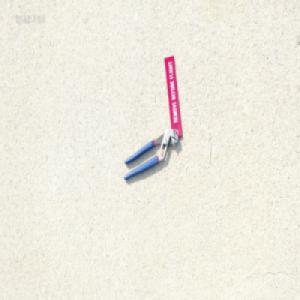Label: (164, 54, 183, 136)
Pliers: (123, 126, 179, 181)
